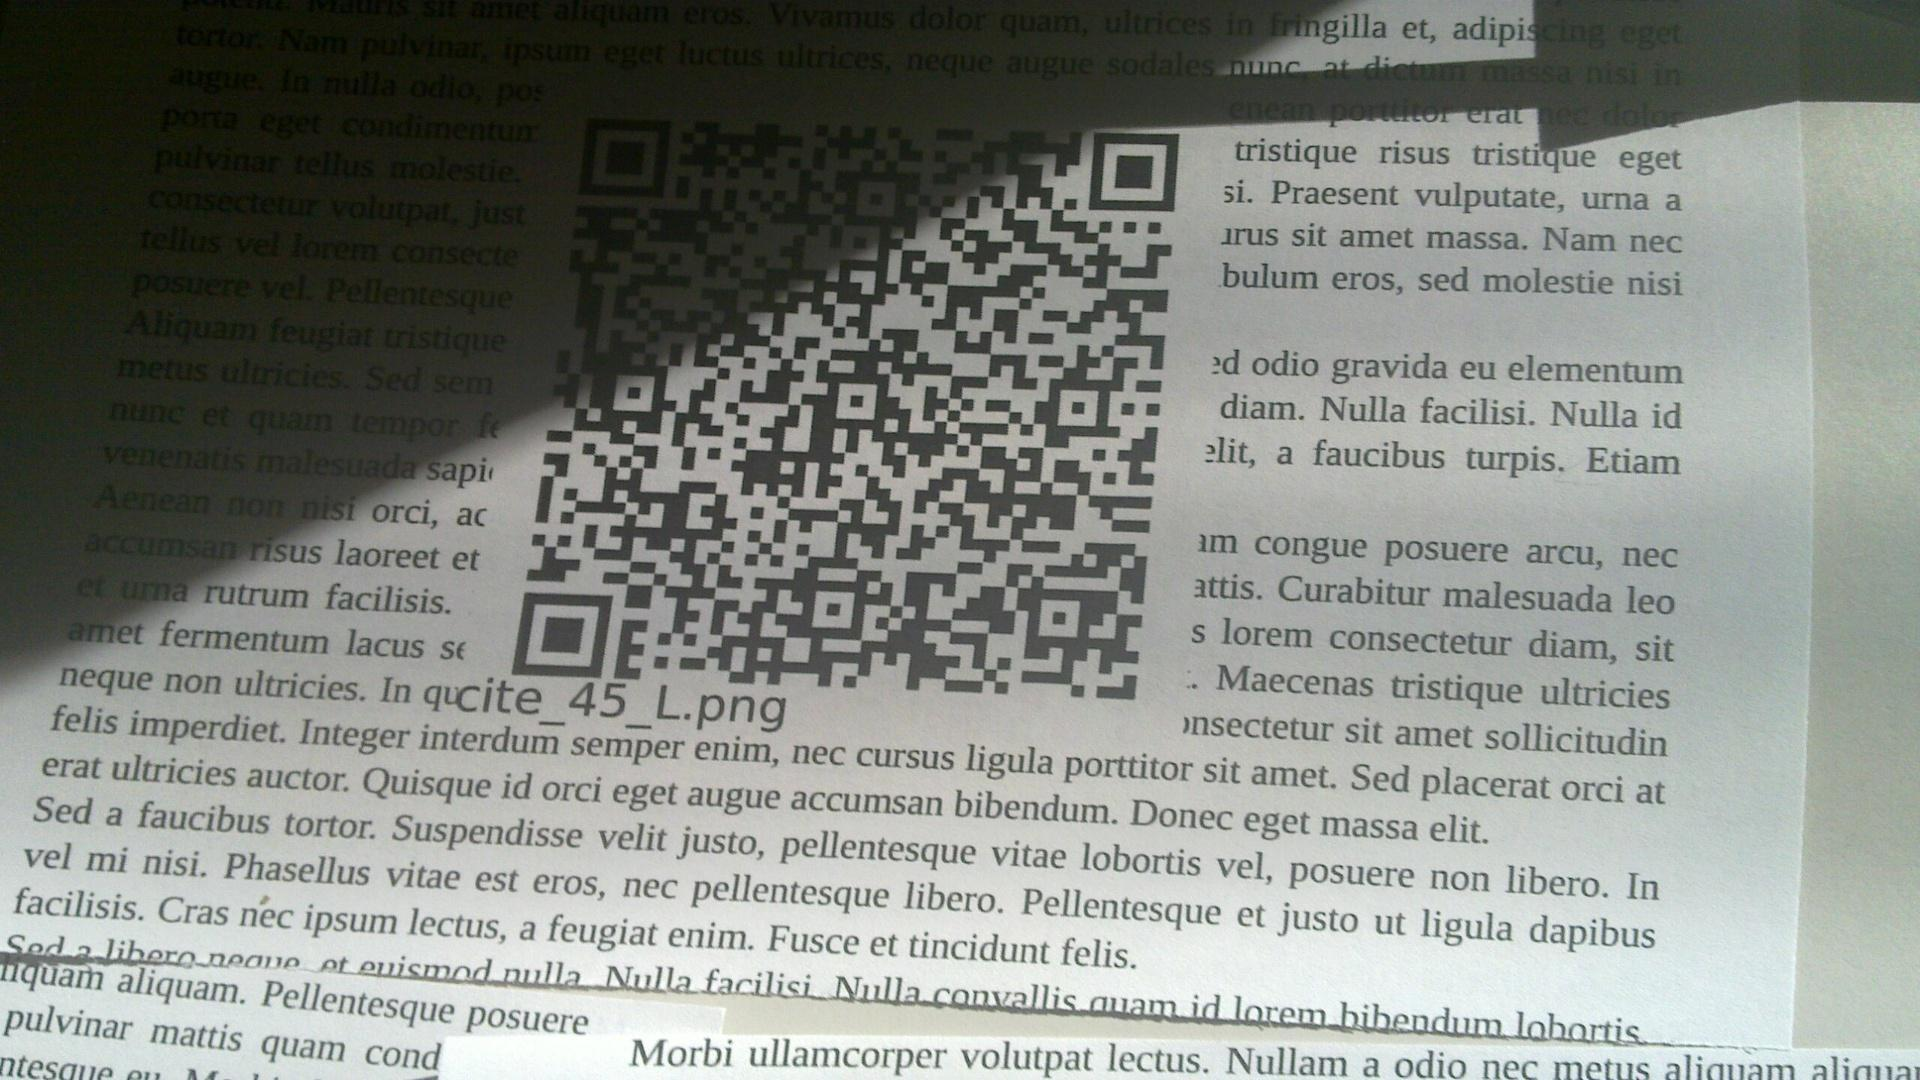qr_code: (512, 115, 1180, 700)
